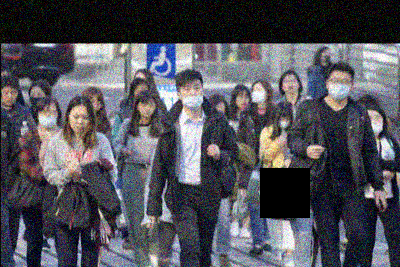mask_weared_incorrect: (180, 83, 206, 110), (38, 106, 60, 131), (367, 113, 385, 135)
with_mask: (329, 76, 351, 100), (250, 87, 269, 106), (30, 90, 47, 110), (279, 114, 293, 130)
without_mask: (69, 110, 91, 134), (138, 100, 156, 119), (283, 76, 302, 94), (2, 89, 19, 106), (90, 97, 104, 114), (236, 94, 250, 110)
